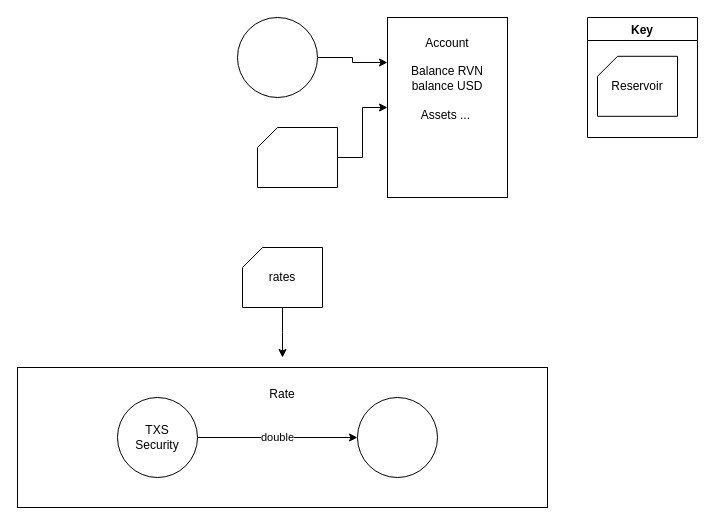
This 715x525 diagram has some shape labels left out. Each missing label, with the centre of its shape:
"Account" goes at (x=277, y=57).
"Balances" goes at (x=297, y=157).
"RVN Security" goes at (x=397, y=437).
